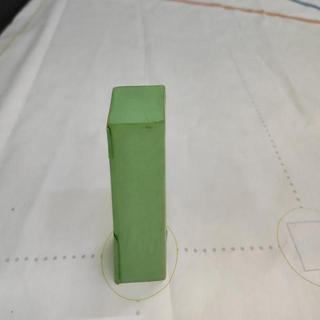greenbox: (105, 83, 169, 284)
